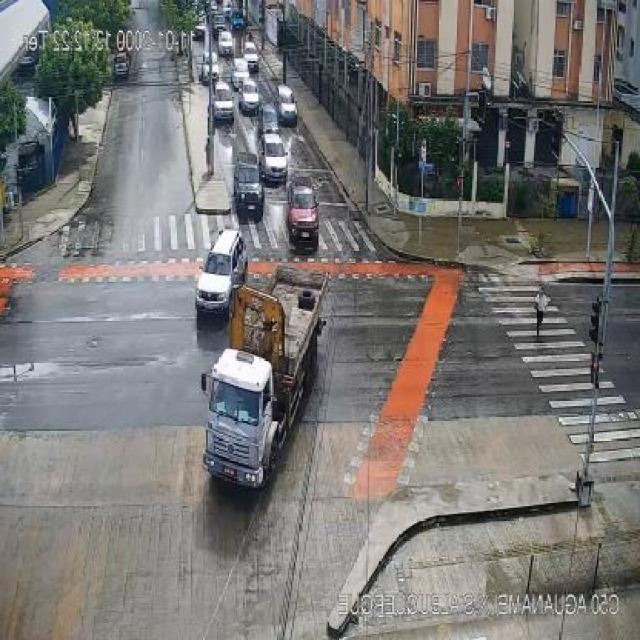Car: (195, 228, 248, 314), (286, 183, 319, 248), (233, 158, 265, 216), (260, 134, 288, 182), (212, 83, 235, 122), (276, 85, 297, 125), (239, 78, 260, 113), (113, 52, 131, 80)
Truck: (198, 260, 343, 490)
